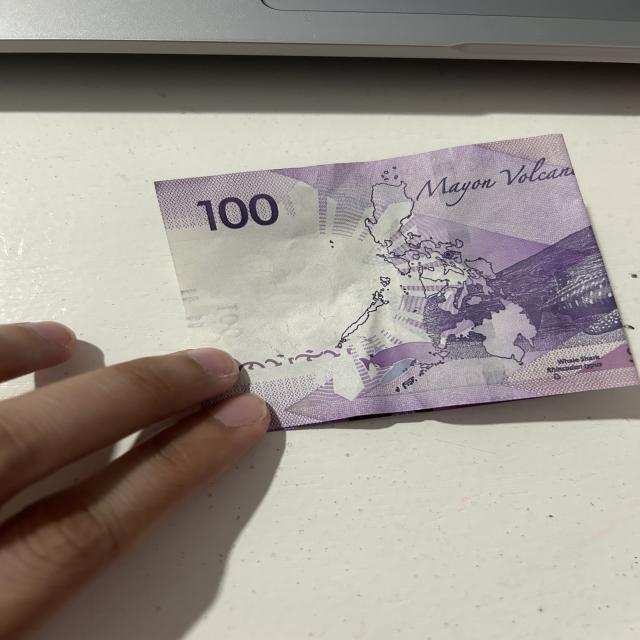100_whale: (524, 268, 615, 337)
100_whale_watermark: (360, 341, 454, 373)
value_watermark: (210, 301, 246, 339)
